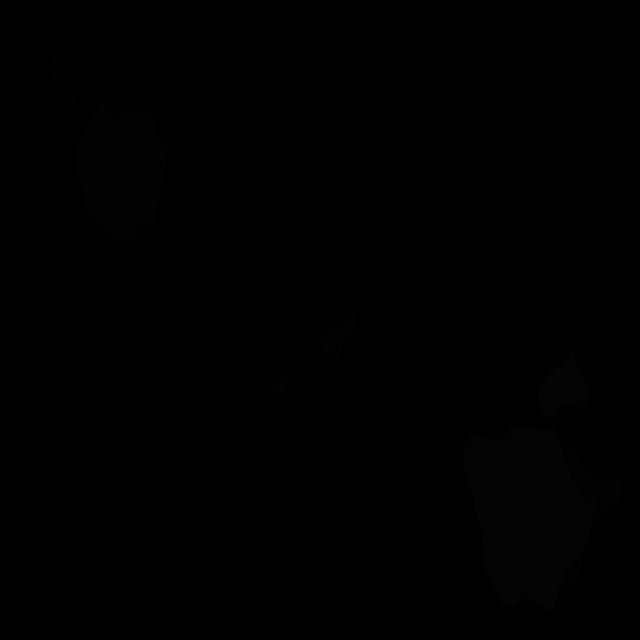cardboard: (76, 102, 169, 248), (562, 444, 623, 518), (320, 305, 356, 364), (268, 369, 301, 401), (560, 551, 584, 586)
rigid_plastic: (36, 13, 80, 137)
soft_plastic: (464, 423, 598, 613), (538, 352, 592, 417)
